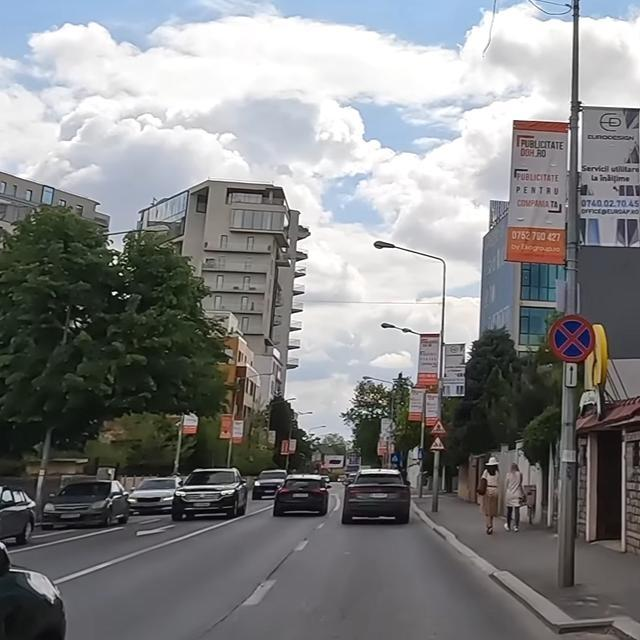forb_waiting: (548, 313, 595, 362)
